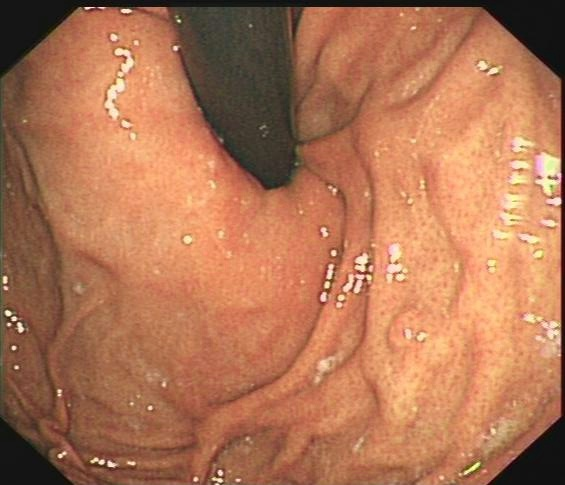Polyp: (376, 305, 450, 358)
